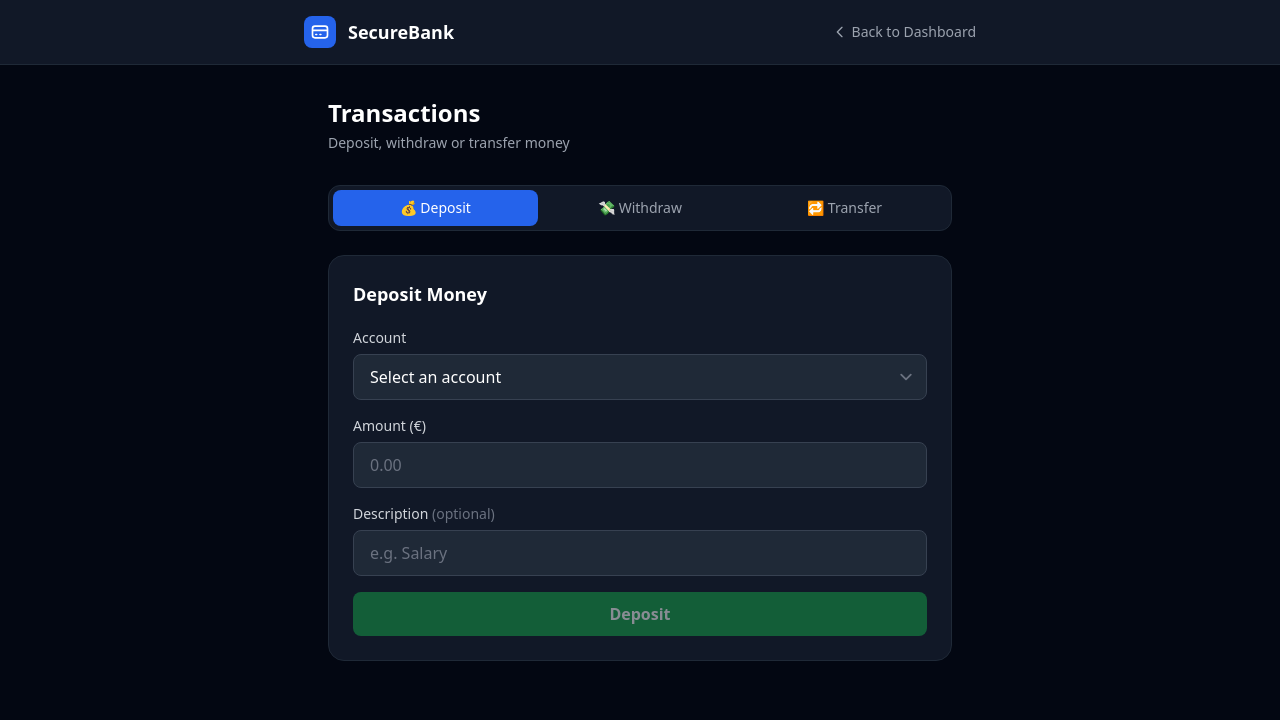
Test case: Transfer page › switches to the Withdraw tab
Click the button with test id "withdraw-tab" at (641, 208), box [538,190,743,226]
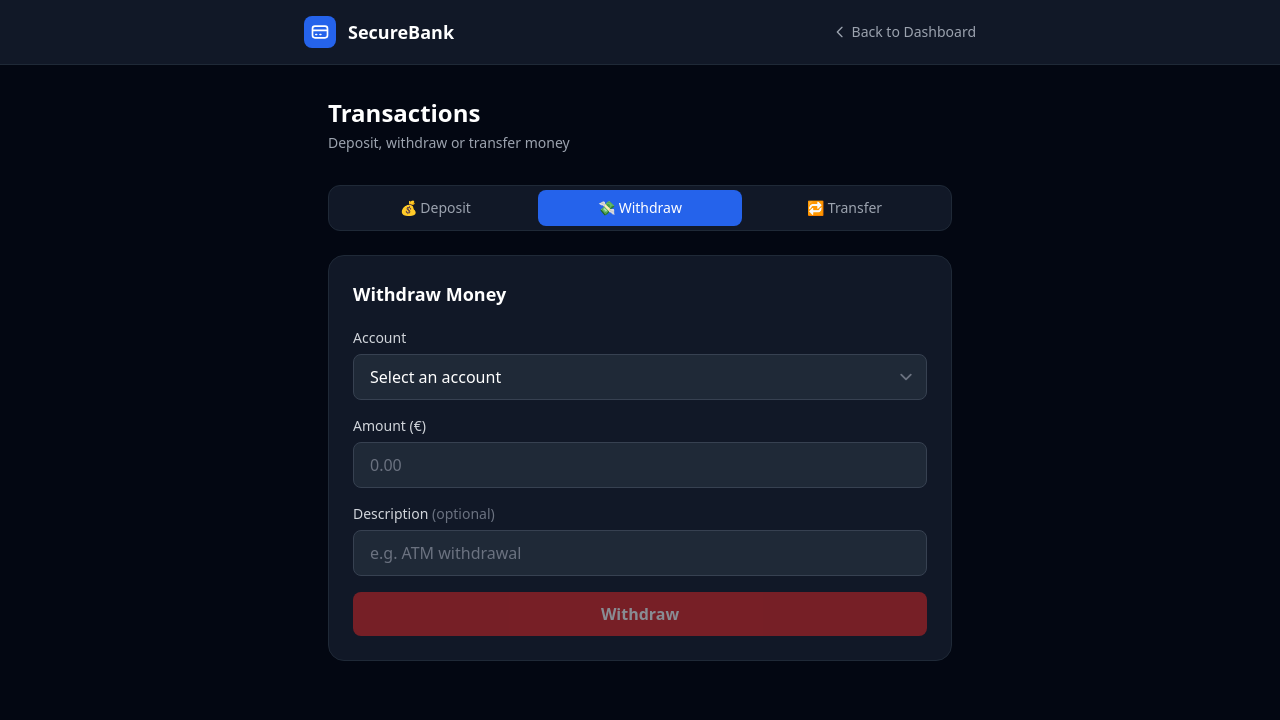
Expected: the dropdown with test id "withdraw-account-select" is shown, [353,354,927,400]
Expected: the button with test id "withdraw-submit" reads "Withdraw", [353,592,927,636]
